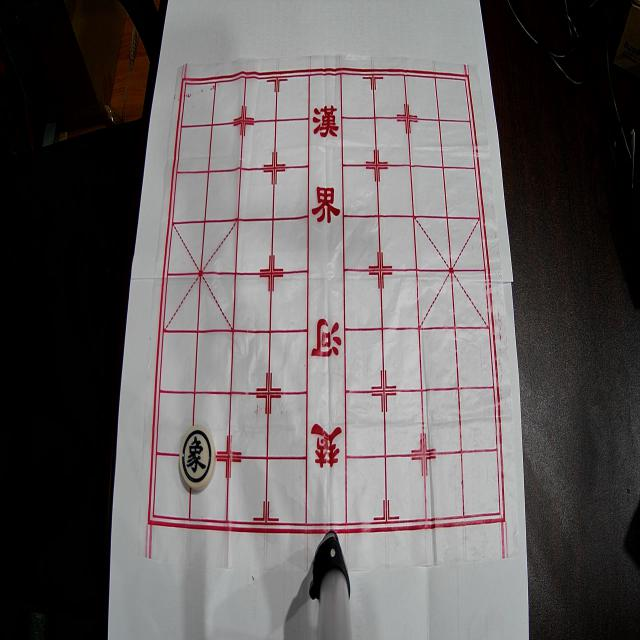black-elephant: (180, 425, 216, 491)
